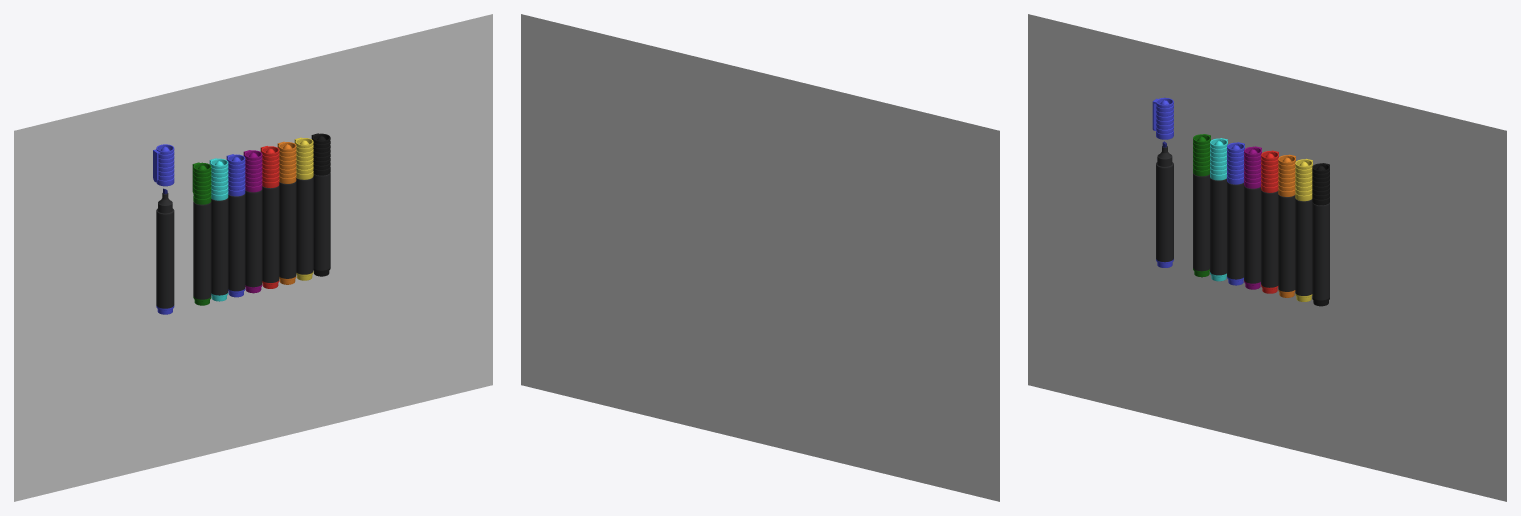
Rendered from Markers.fbx.
3 views of the same model, side by side, from view 1: azimuth 30°, elevation 25°; view 2: azimuth 150°, elevation 25°; view 3: azimuth 330°, elevation 25° (orthographic).
Visible parts, largest first — view 1: Plane, marker.red, marker.black, marker.green, marker.cyan, marker.yellow, marker.magenta, marker.blue, marker.orange, marker.body, marker.cap; view 2: Plane; view 3: Plane, marker.cyan, marker.magenta, marker.orange, marker.yellow, marker.black, marker.blue, marker.green, marker.red, marker.body, marker.cap.
Boxes of the visible parts, x1,y1,x2,y2 form: Plane: (14,14,492,501); marker.red: (192,162,211,305); marker.black: (243,150,262,293); marker.green: (209,158,228,301); marker.cyan: (311,133,330,276); marker.yellow: (277,141,296,284); marker.magenta: (260,146,279,288); marker.blue: (226,154,245,297); marker.orange: (294,137,313,280); marker.body: (156,193,174,308); marker.cap: (153,144,174,186); Plane: (521,14,999,501); Plane: (1028,14,1506,501); marker.cyan: (1312,163,1329,306); marker.magenta: (1261,150,1278,293); marker.orange: (1295,158,1312,301); marker.yellow: (1278,154,1295,297); marker.black: (1244,146,1261,289); marker.blue: (1227,142,1244,285); marker.green: (1210,138,1227,281); marker.red: (1193,134,1210,277); marker.body: (1156,146,1173,262); marker.cap: (1152,97,1173,139).
Size of the model in its own units: 494 by 366 by 20.88.
